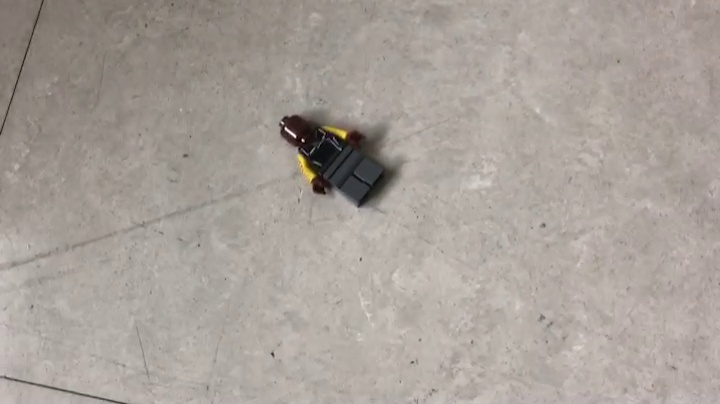people: (278, 113, 390, 209)
